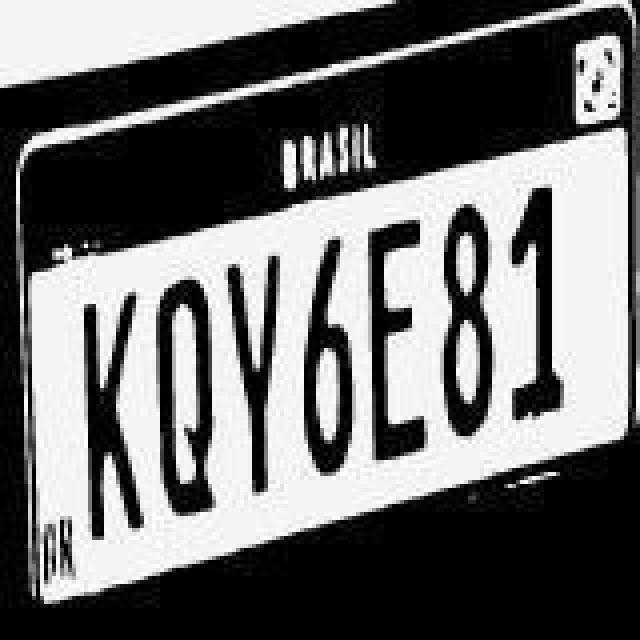1: (506, 178, 574, 422)
6: (292, 220, 356, 484)
8: (438, 200, 498, 440)
E: (354, 204, 430, 460)
K: (84, 284, 148, 548)
Q: (154, 272, 214, 528)
Y: (224, 224, 288, 496)
